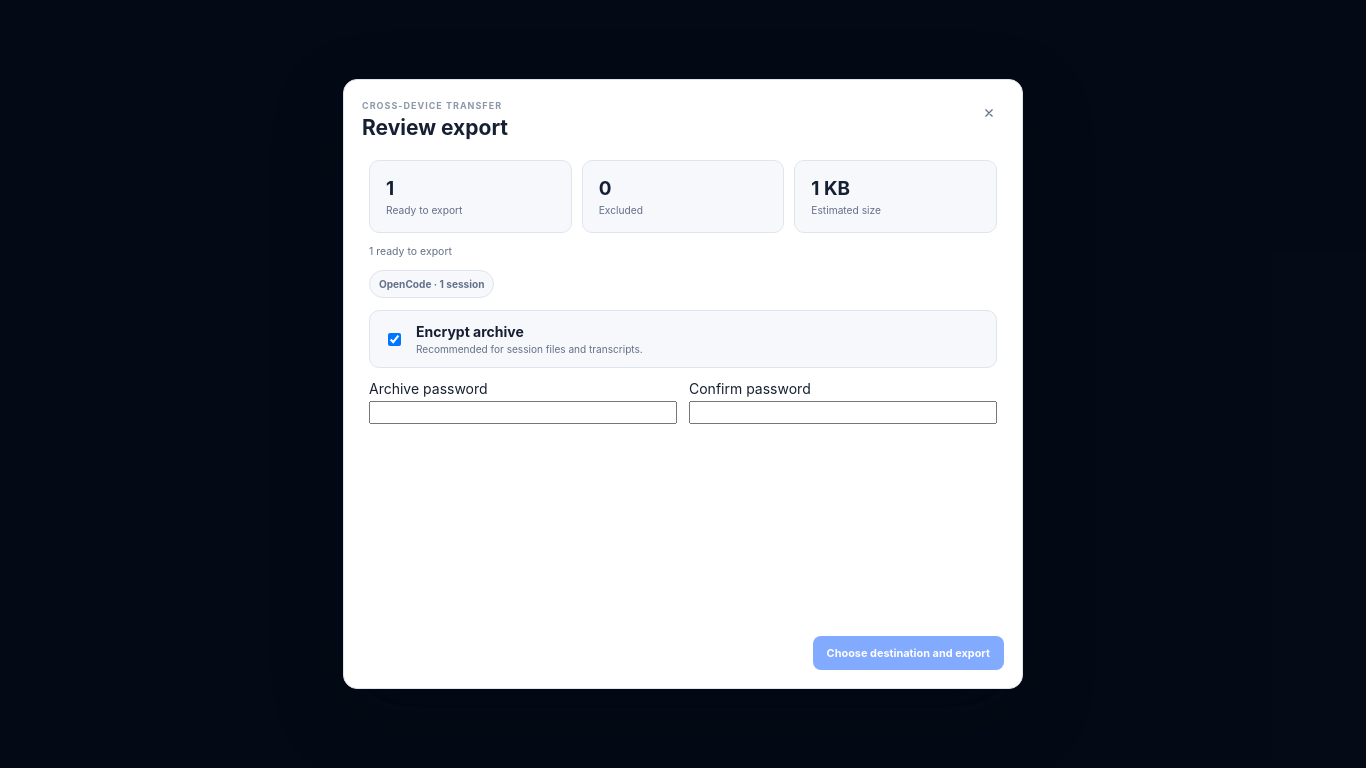
Test: SessionExportDialog › prepares authoritatively and exports encrypted by default
The image size is (1366, 768).
Check: the text "1 ready to export" is shown, box x1=369 y1=245 x2=452 y2=258
Check: the checkbox labelled "Encrypt archive" is checked, box x1=388 y1=332 x2=401 y2=346
Type "strong password" into the password field labelled "Archive password".
click(523, 412); type("strong password")  # box x1=369 y1=401 x2=677 y2=424
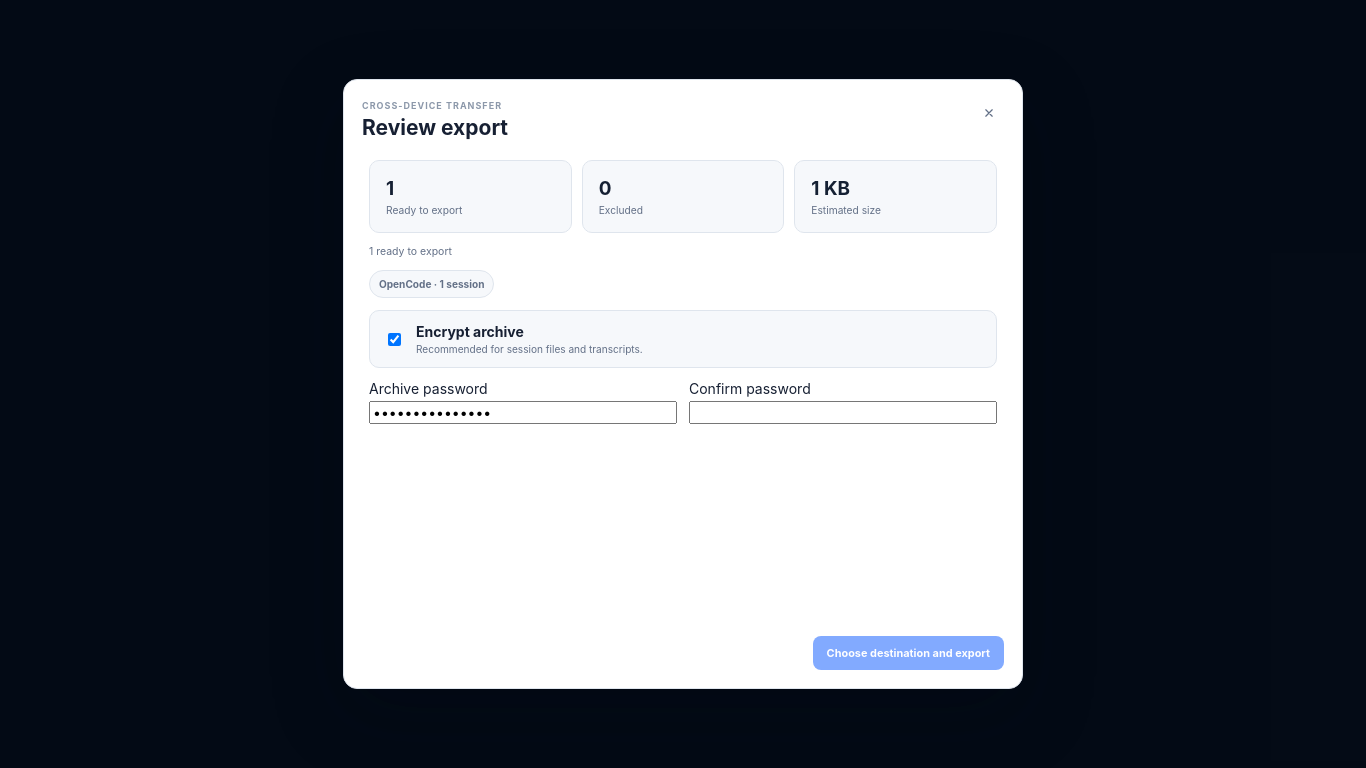
Type "different" into the password field labelled "Confirm password".
click(843, 412); type("different")  # box x1=689 y1=401 x2=997 y2=424
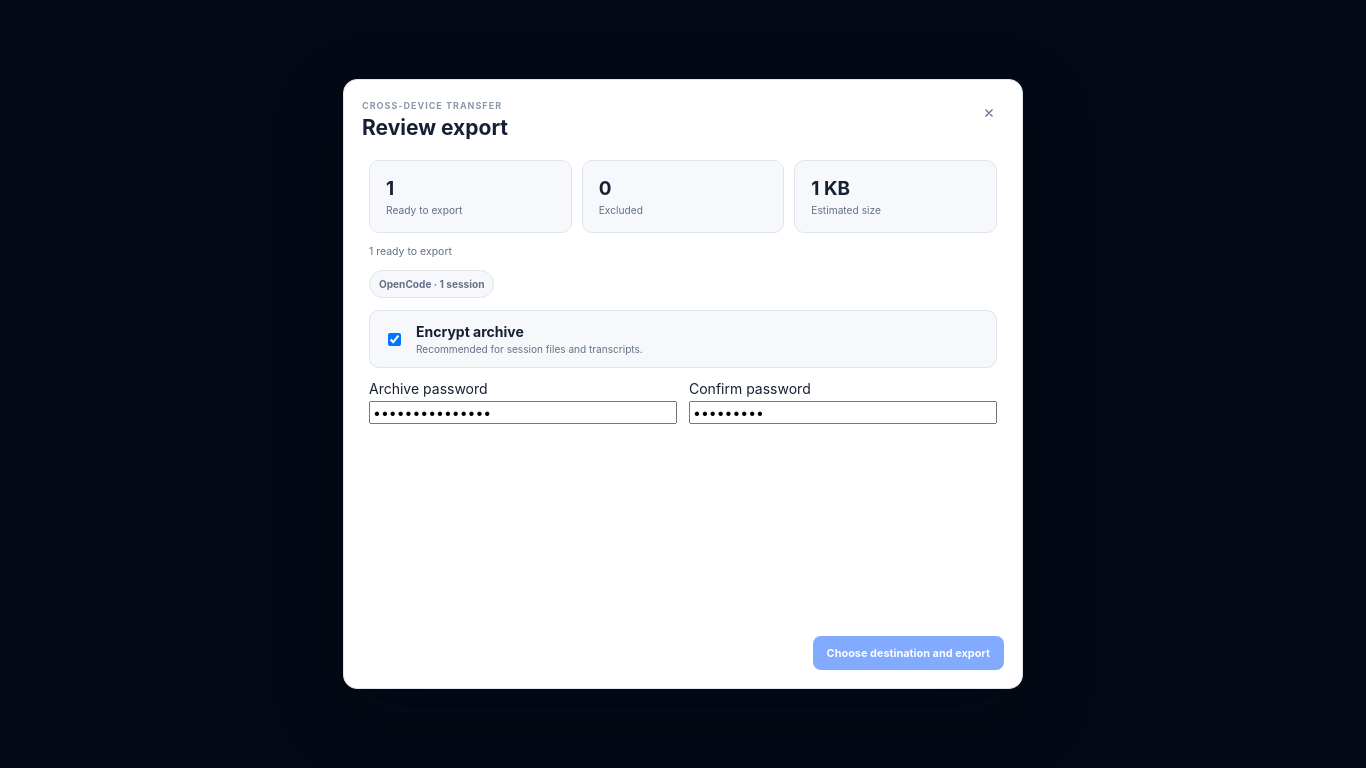
Check: the button "Choose destination and export" is disabled, box x1=813 y1=636 x2=1004 y2=670
Type "strong password" into the password field labelled "Confirm password".
click(843, 412); type("strong password")  # box x1=689 y1=401 x2=997 y2=424
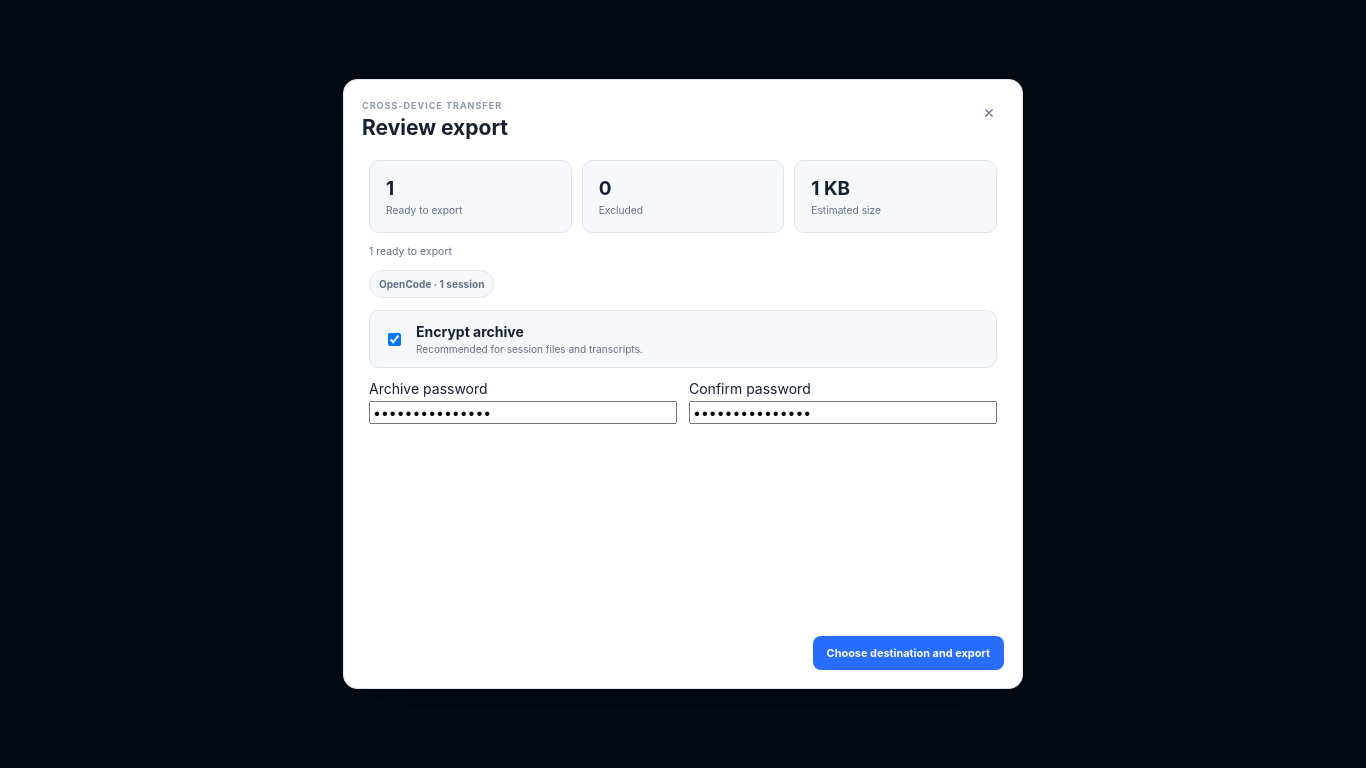
Click the button "Choose destination and export".
click(908, 653)  # box x1=813 y1=636 x2=1004 y2=670
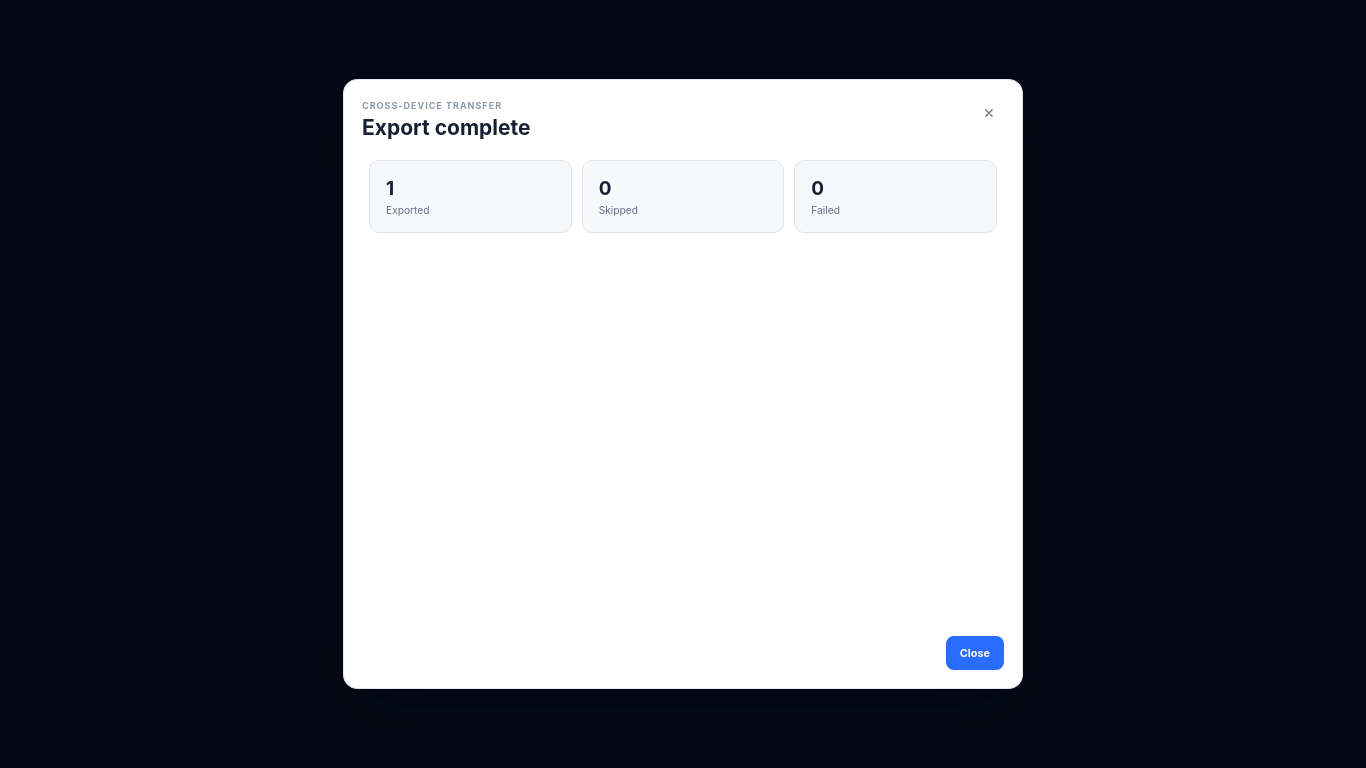
Check: the heading "Export complete" is shown, box x1=362 y1=115 x2=530 y2=140
Check: the text labelled "Archive password" is gone
Check: the text labelled "Confirm password" is gone
